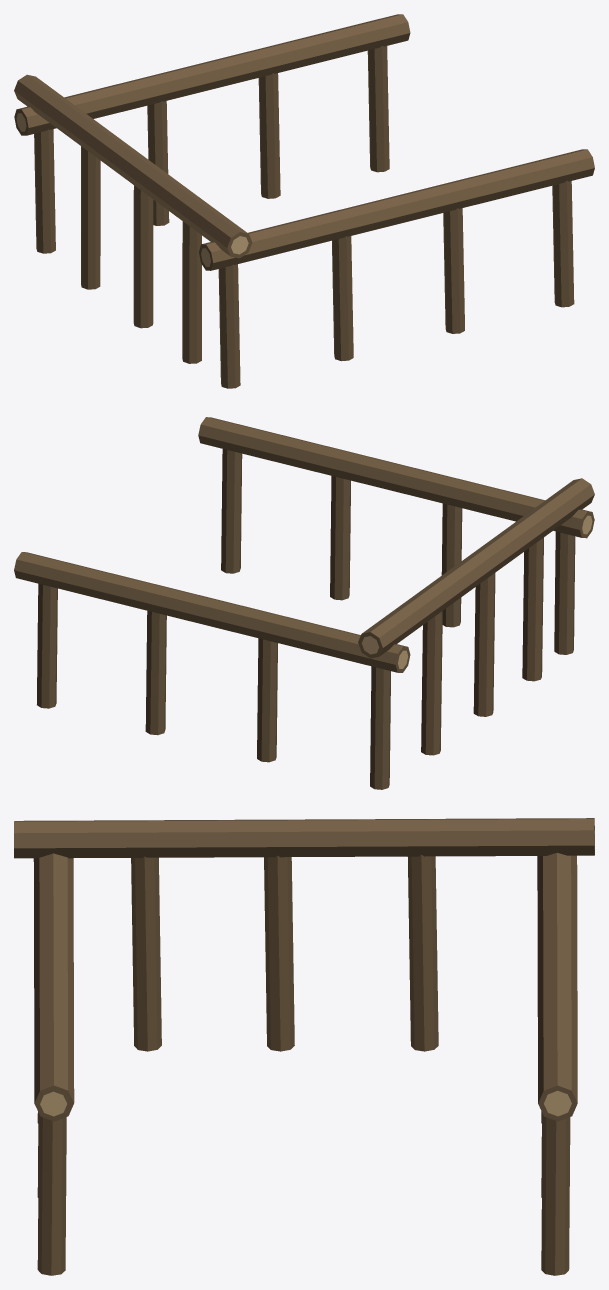
The model's file is rpgpp_ag_wall_platform_03_handrail_01a.fbx.
3 views of the same model, one above another, from view 1: azimuth 30°, elevation 25°; view 2: azimuth 150°, elevation 25°; view 3: azimuth 270°, elevation 25° (orthographic). The views are drawn at different scales.
Visible parts, largest first — view 1: rpgpp_ag_wall_platform_03_handrail_01a; view 2: rpgpp_ag_wall_platform_03_handrail_01a; view 3: rpgpp_ag_wall_platform_03_handrail_01a.
Boxes of the visible parts, x1,y1,x2,y2 form: rpgpp_ag_wall_platform_03_handrail_01a: [14, 14, 594, 388]; rpgpp_ag_wall_platform_03_handrail_01a: [14, 417, 594, 789]; rpgpp_ag_wall_platform_03_handrail_01a: [14, 818, 594, 1275].
Bounding box in the file's own units: 2.48 × 1.03 × 2.39.
